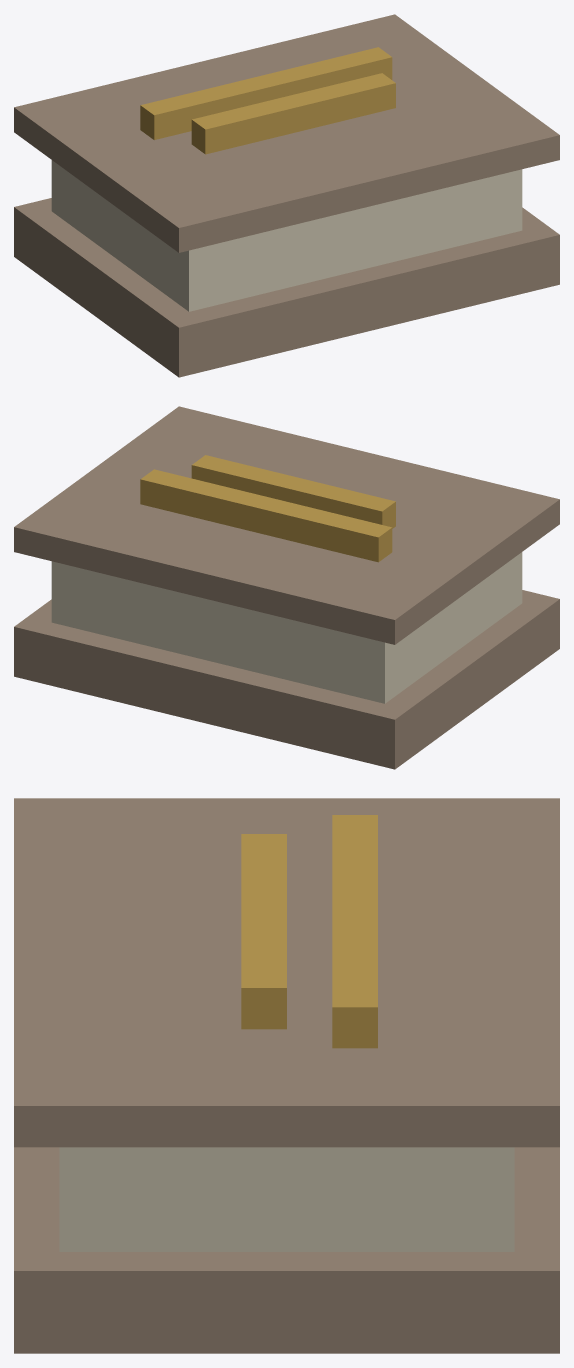
File: legal-05.glb
3 views of the same model, one above another, from view 1: azimuth 30°, elevation 25°; view 2: azimuth 150°, elevation 25°; view 3: azimuth 270°, elevation 25° (orthographic). The views are drawn at different scales.
Visible parts, largest first — view 1: Contract book; view 2: Contract book; view 3: Contract book.
Part boxes in pixels (box(x1,y1,x2,y2)): Contract book: box(14, 14, 559, 377); Contract book: box(14, 406, 559, 769); Contract book: box(14, 798, 559, 1353).
Bounding box in the file's own units: 1.28 × 0.56 × 0.96.
